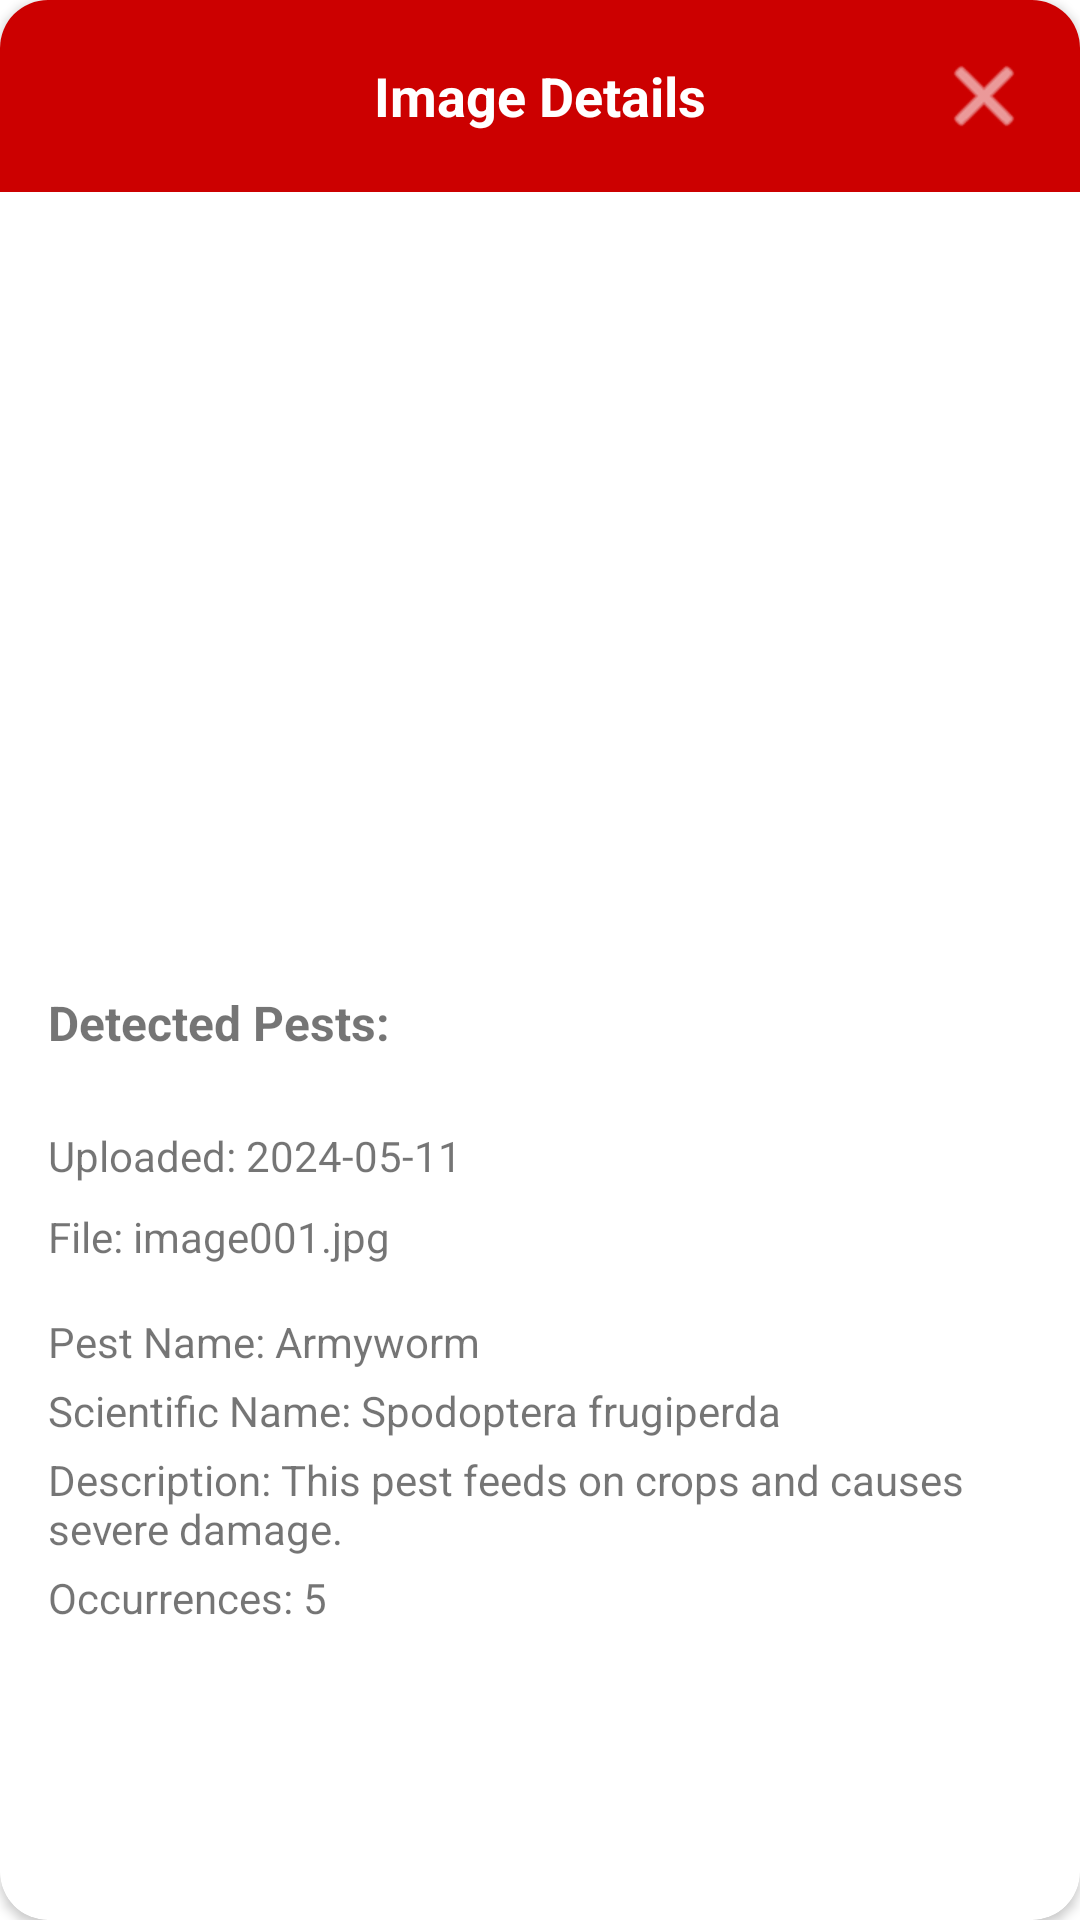

Icon bounding boxes for this 1080 x 1920 phone screenshot, format (x1, y1, x2, y2):
Close: (954, 66, 1014, 126)
